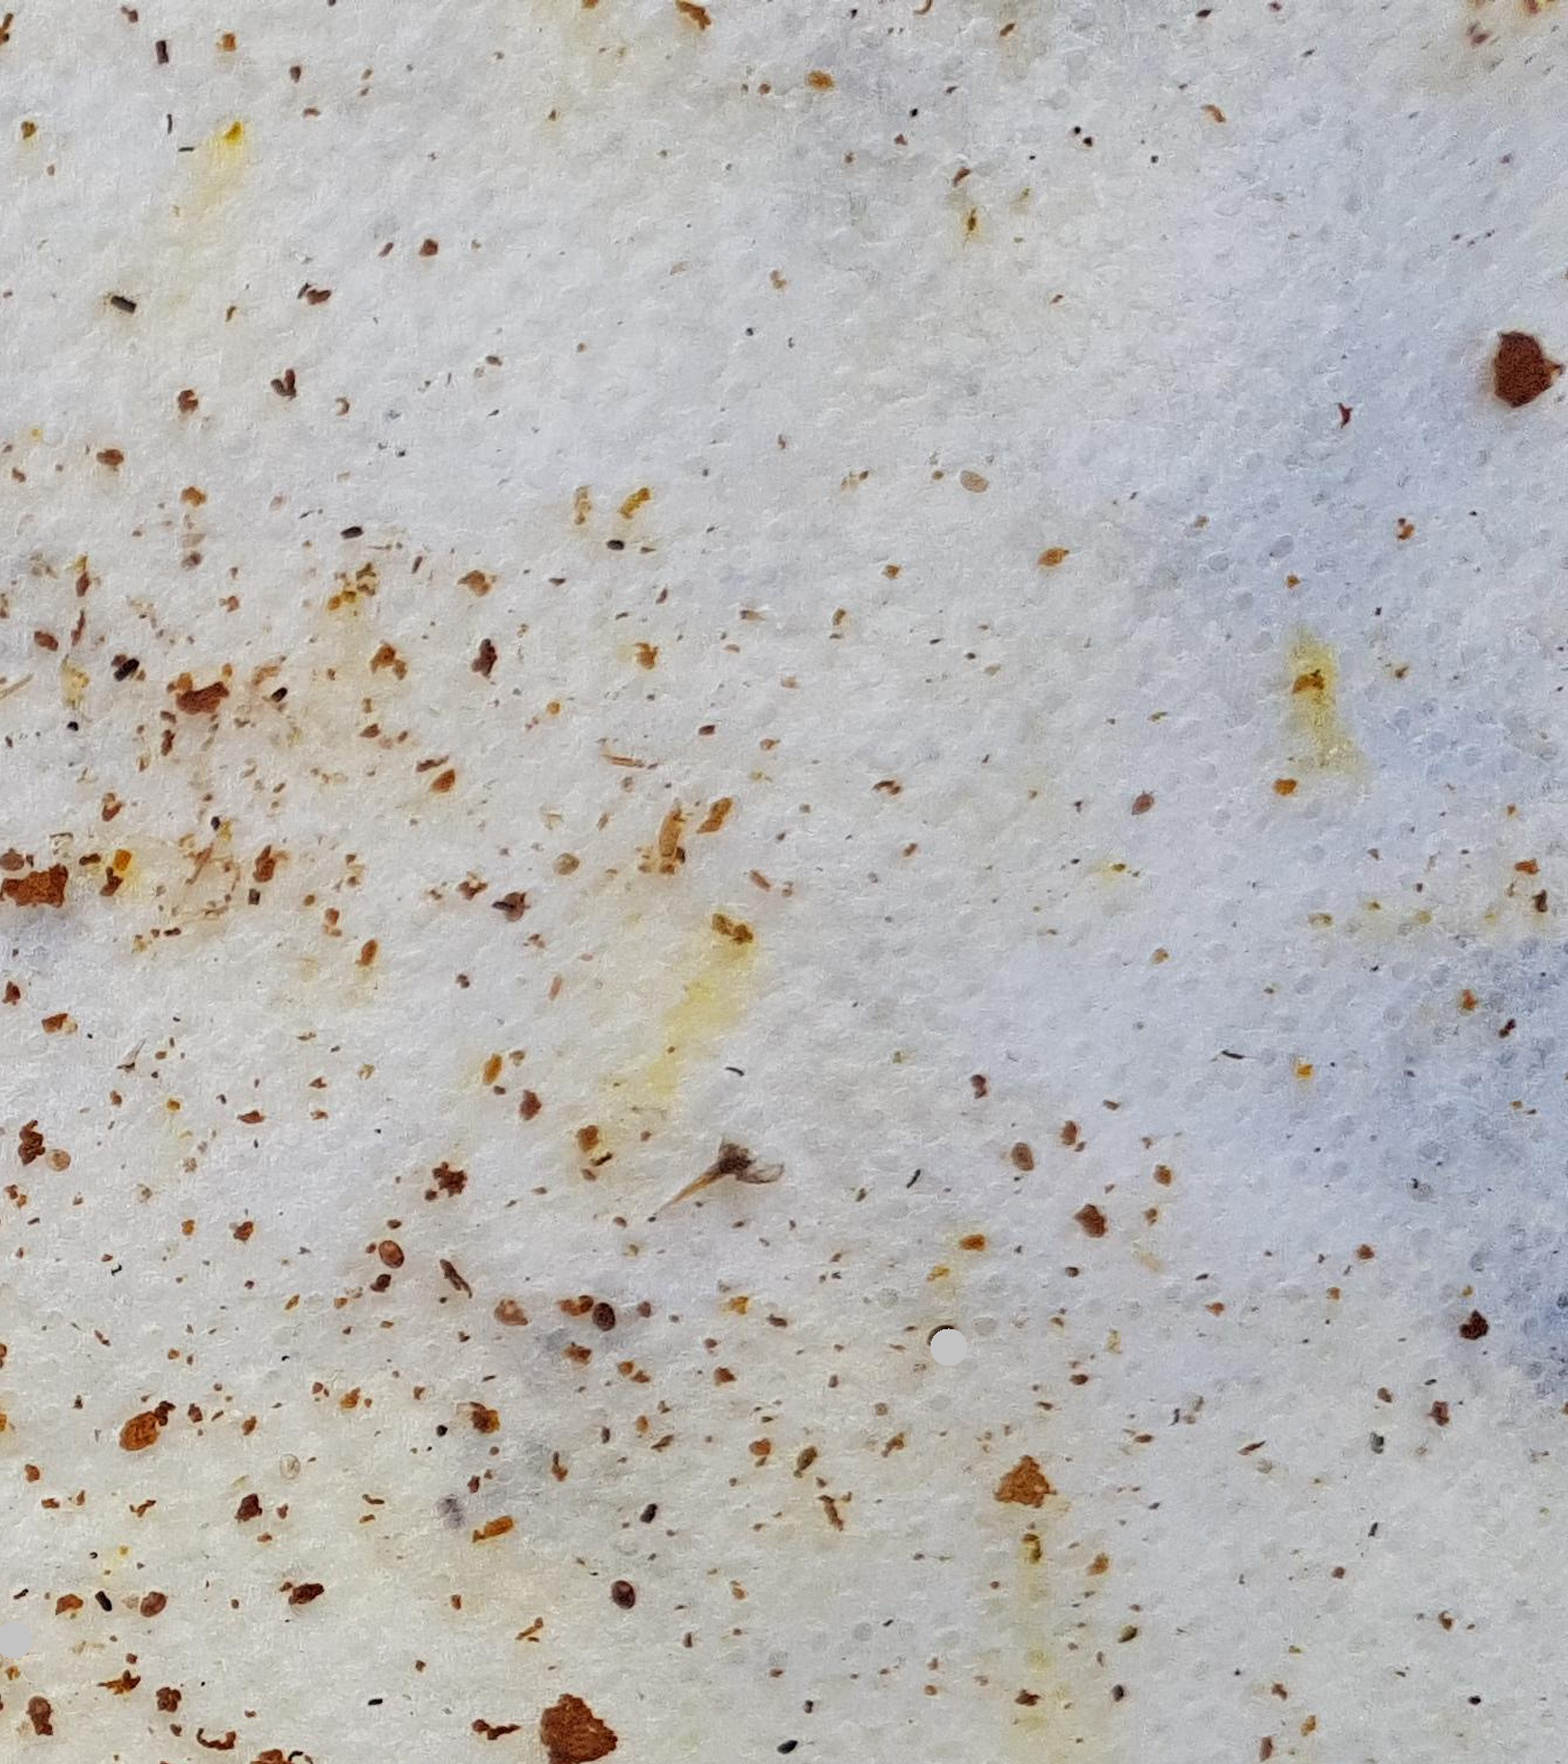Varroa: (374, 1221, 409, 1266), (1005, 1138, 1041, 1174), (23, 1696, 58, 1734), (368, 1250, 401, 1287), (135, 1584, 170, 1619), (595, 1292, 631, 1325), (610, 1578, 642, 1611), (581, 1309, 607, 1337)
